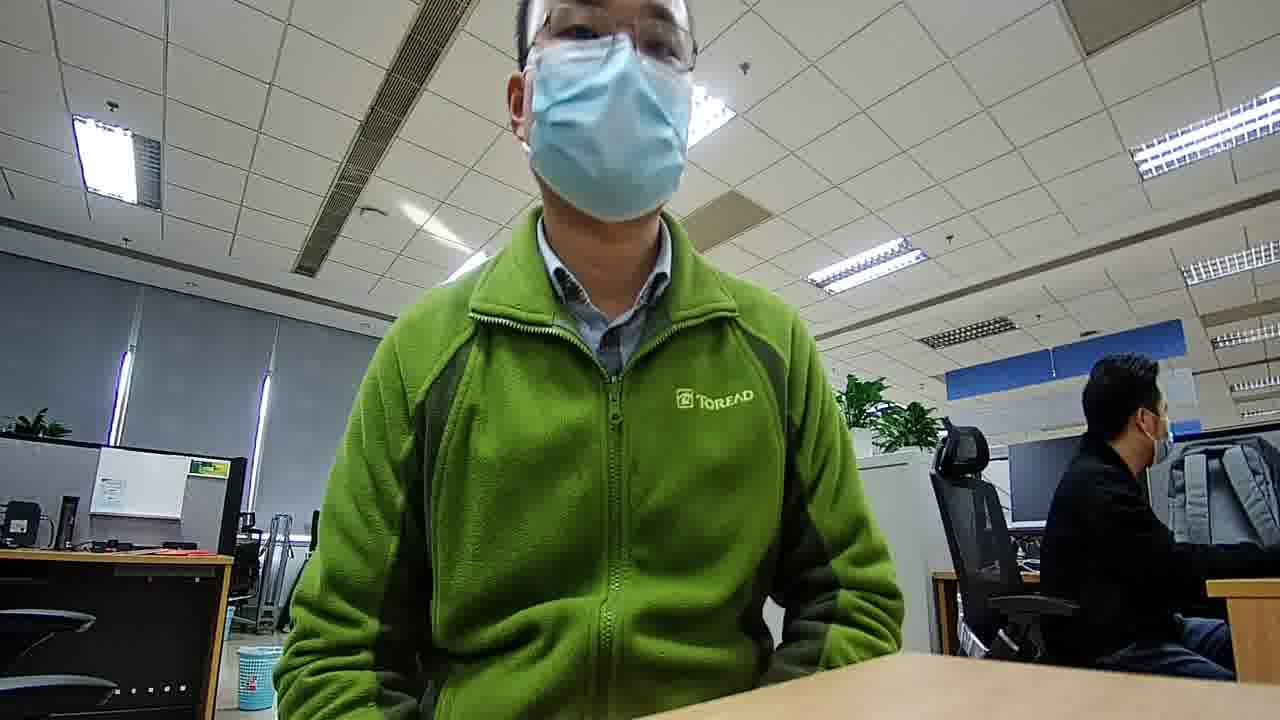face: (529, 8, 699, 218), (1147, 393, 1178, 470)
mask: (527, 34, 691, 220), (1152, 420, 1177, 466)
person: (372, 1, 829, 385), (1050, 357, 1180, 523)
